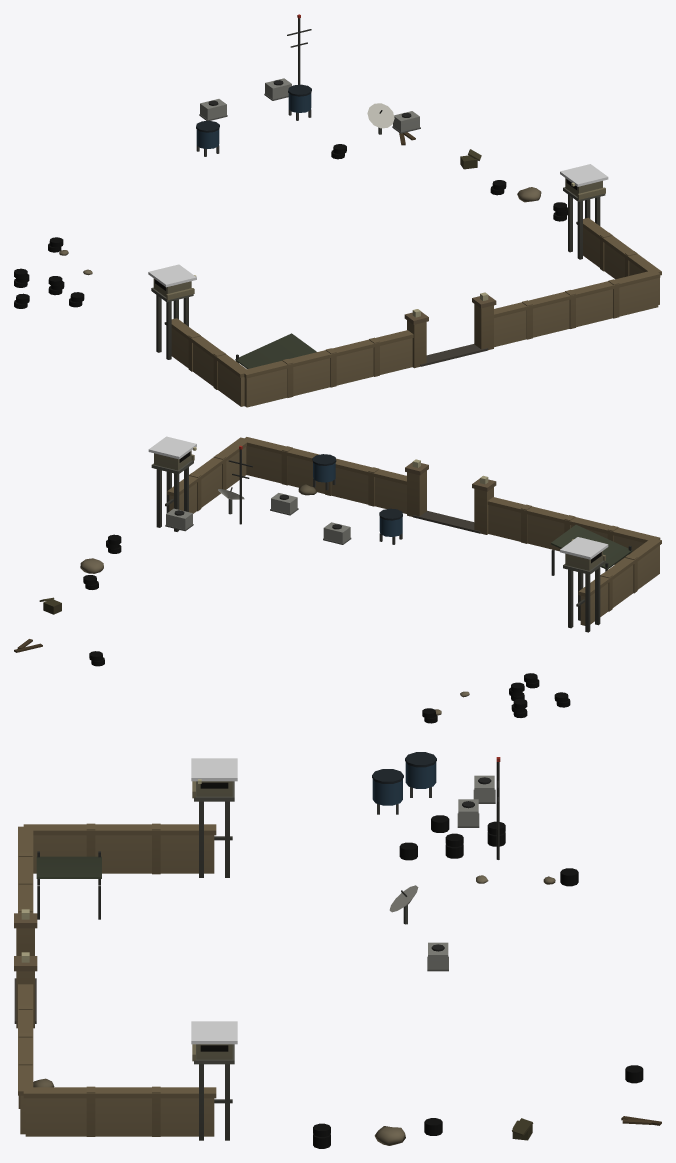
Rendered from m_factory_fa9b76c8.glb.
The picture shows the model from 3 angles, top to bottom: view 1: azimuth 30°, elevation 25°; view 2: azimuth 150°, elevation 25°; view 3: azimuth 270°, elevation 25°; orthographic projection. The views are drawn at different scales.
Visible parts, largest first — view 1: mesh; view 2: mesh; view 3: mesh.
Part boxes in pixels (x1,y1,x2,y2): mesh: [14, 14, 661, 407]; mesh: [14, 436, 661, 723]; mesh: [14, 752, 661, 1148].
Size of the model in its own units: 106 by 40.15 by 89.22.
